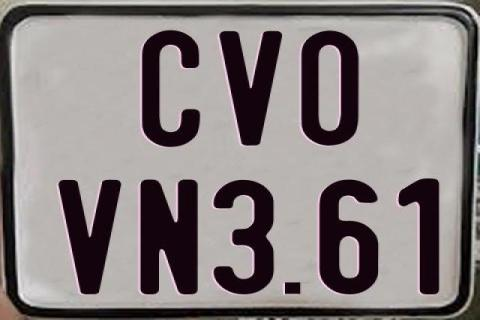0: (316, 177, 380, 297), (298, 28, 360, 147), (213, 179, 275, 293), (396, 179, 443, 297)
C: (139, 30, 201, 148)
N: (138, 177, 200, 295)
V: (56, 178, 123, 296), (216, 29, 284, 145)
